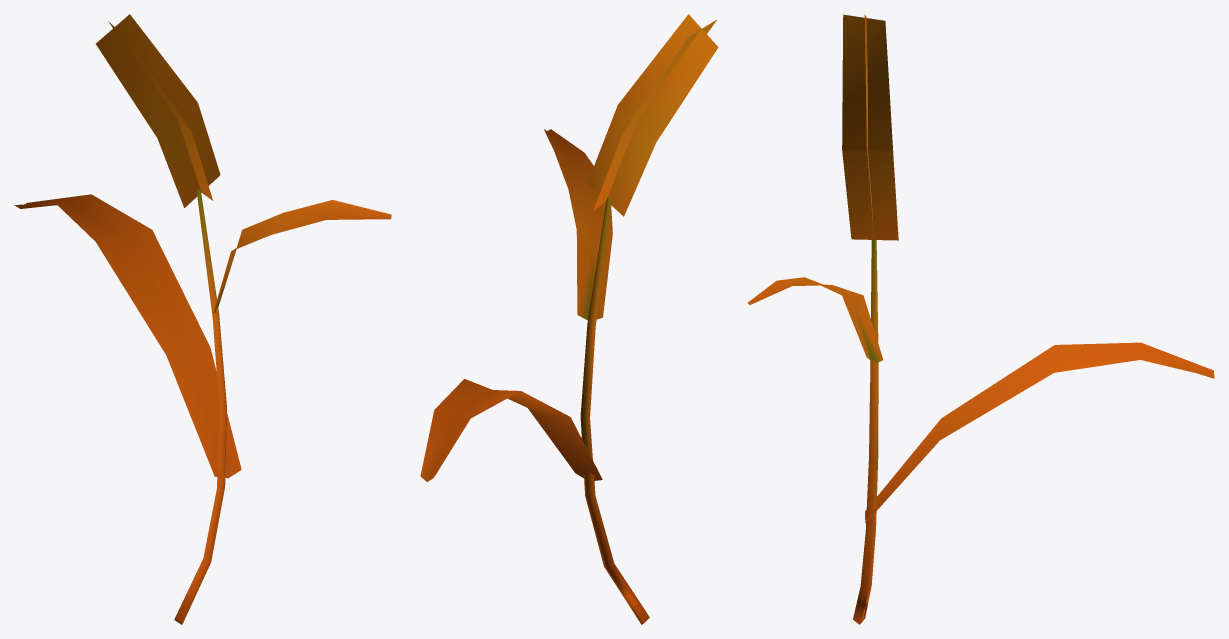
Rendered from SM_WheatPlants_10.fbx.
The picture shows the model from 3 angles, left to right: view 1: azimuth 30°, elevation 25°; view 2: azimuth 150°, elevation 25°; view 3: azimuth 270°, elevation 25°; orthographic projection. The views are drawn at different scales.
Parts seen in each view (by area): view 1: SM_WheatPlants_10; view 2: SM_WheatPlants_10; view 3: SM_WheatPlants_10.
Boxes of the visible parts, x1,y1,x2,y2 form: SM_WheatPlants_10: (14,14,391,624); SM_WheatPlants_10: (420,14,718,624); SM_WheatPlants_10: (748,14,1214,624).
Size of the model in its own units: 0.5727 by 1.45 by 1.04.
